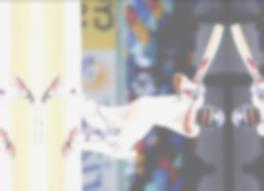batsman: (37, 71, 230, 187)
